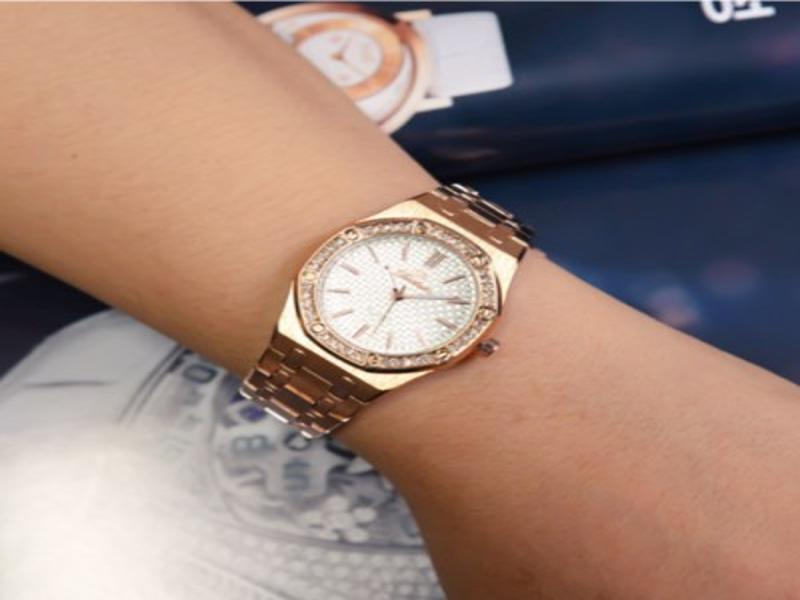watch: (241, 184, 535, 442)
